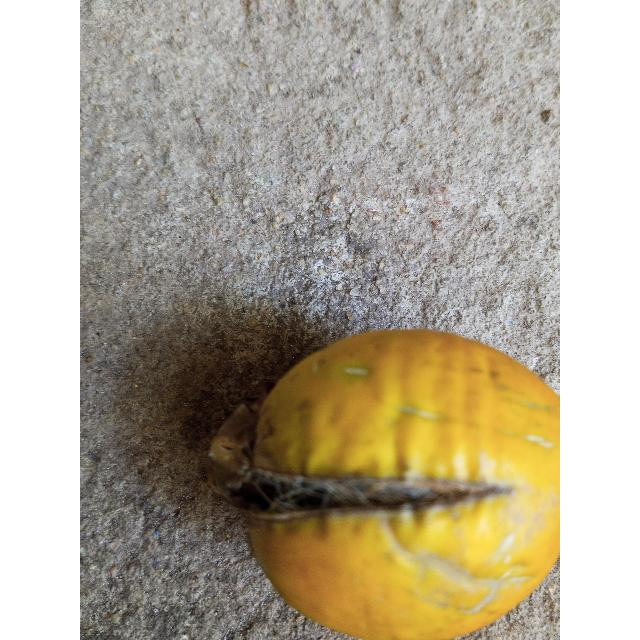damaged: (213, 329, 560, 640)
